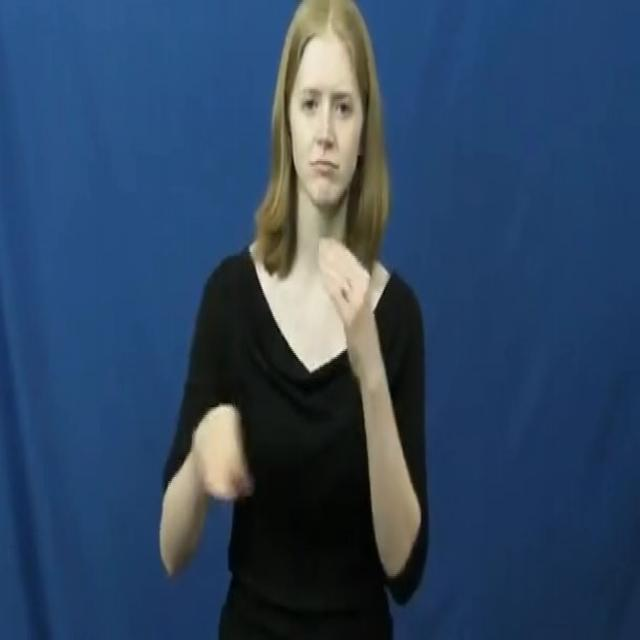additional: (180, 224, 392, 603)
